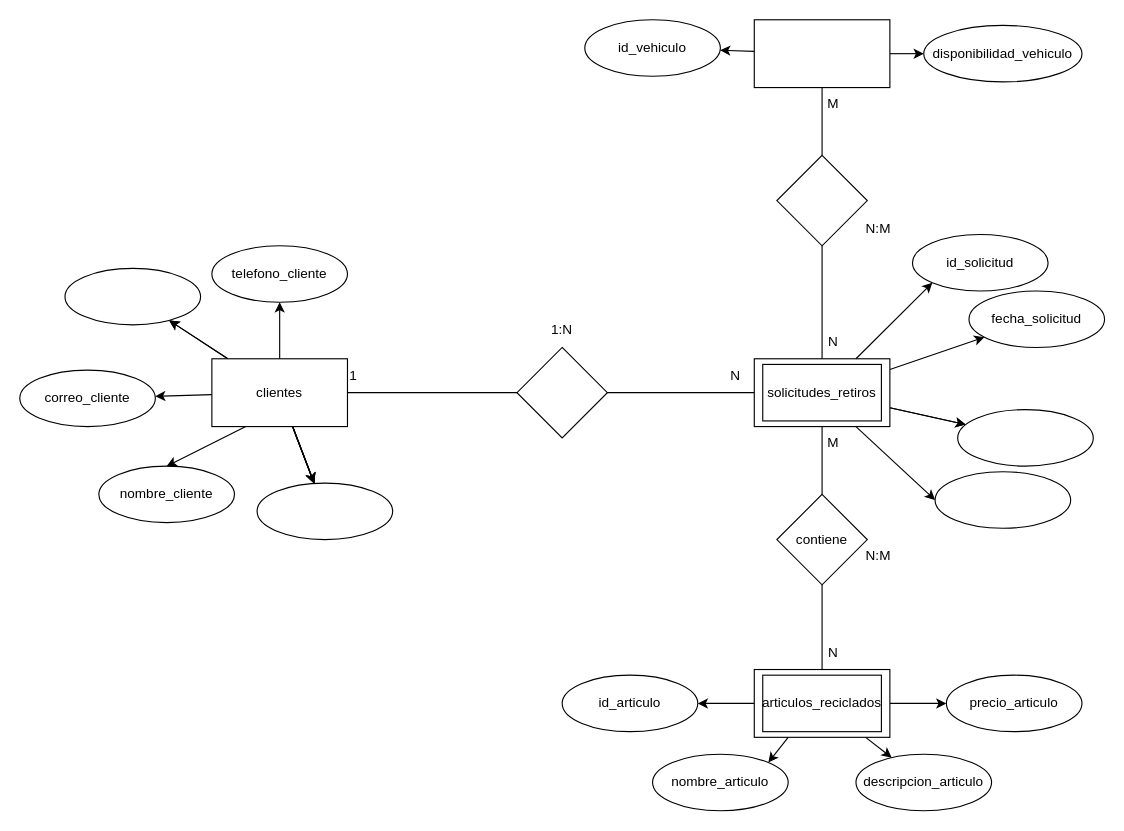
The diagram is 1124 pixels wide and 831 high, and some of its shapes have lost their labels. Here are the shapes that lost their labels. From the top down, the centre of each, then its label:
At (x=821, y=53): "vehiculos".
At (x=821, y=200): "asignar".
At (x=132, y=296): "id_cliente".
At (x=561, y=392): "realiza".
At (x=1025, y=437): "fecha_retiro".
At (x=324, y=511): "direccion_cliente".
At (x=1002, y=499): "estado_solicitud".
